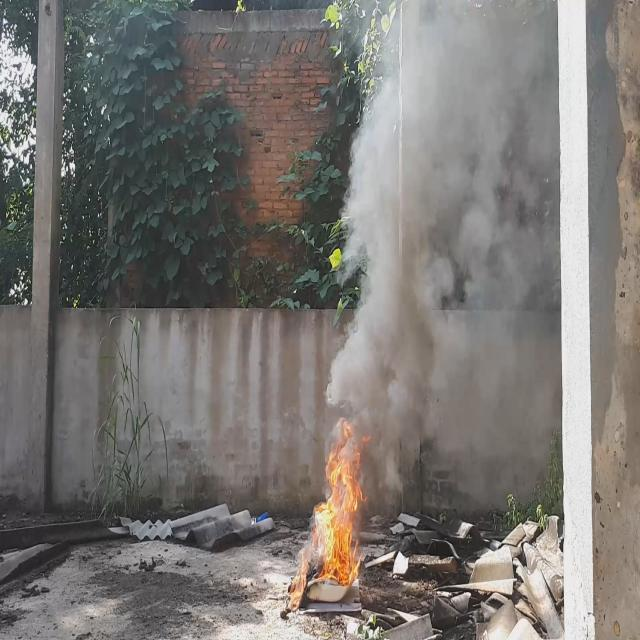Fire: (314, 442, 362, 580)
Smoke: (325, 0, 559, 521)
